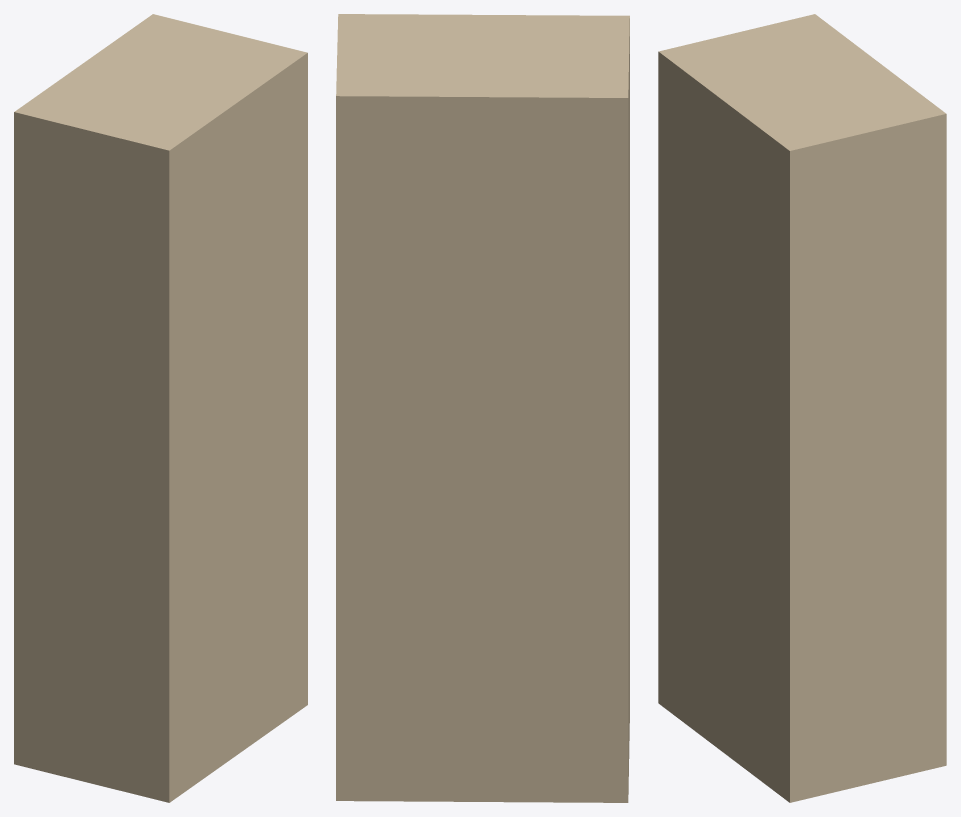
The model's file is -3_-2-estimated-coarse.glb.
3 renders of one model, left to right at view 1: azimuth 30°, elevation 25°; view 2: azimuth 150°, elevation 25°; view 3: azimuth 270°, elevation 25°, orthographic. The views are drawn at different scales.
Size of the model in its own units: 5.41 by 12 by 4.81.
